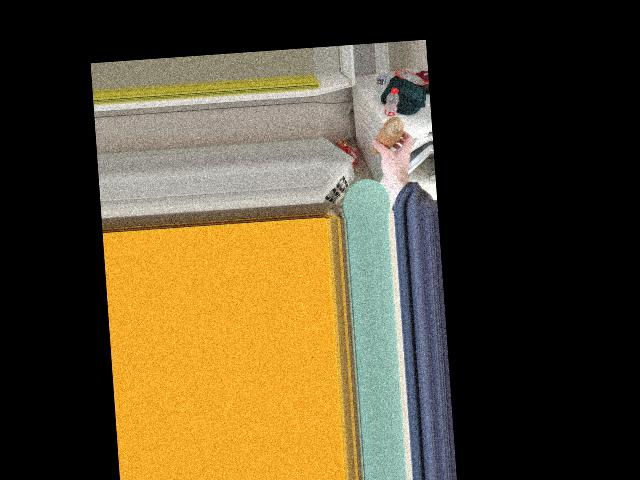sweet_potato: (368, 116, 402, 153)
